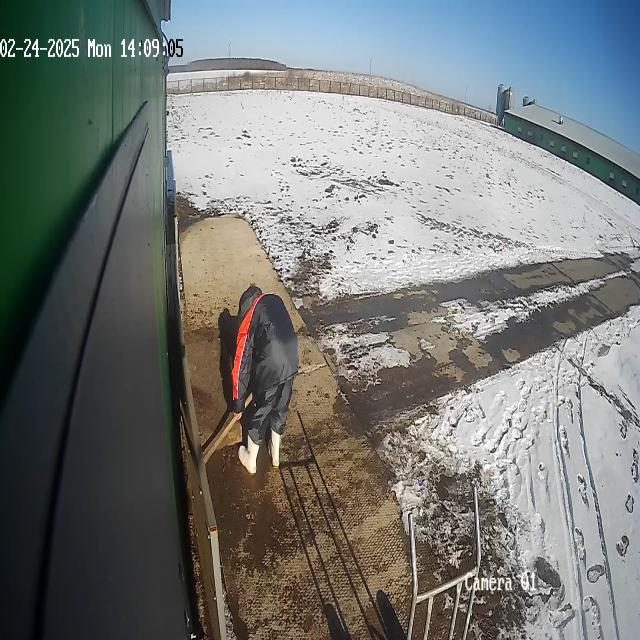Red uniform: (217, 283, 300, 477)
